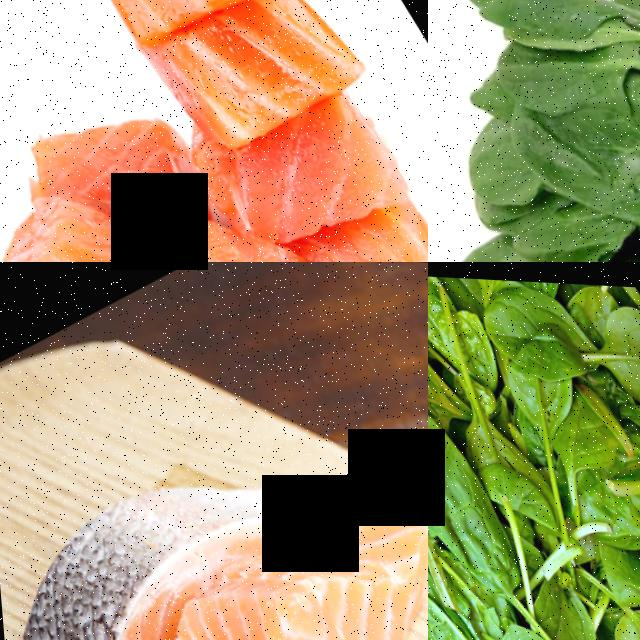salmon: (171, 47, 422, 262), (219, 453, 428, 640), (132, 0, 375, 158), (6, 67, 206, 256), (32, 169, 372, 262), (70, 553, 426, 640), (0, 534, 211, 640), (60, 0, 310, 62)
spinach: (428, 373, 537, 609), (485, 4, 640, 128), (462, 275, 605, 403), (555, 61, 640, 232), (445, 0, 618, 69), (435, 110, 540, 222), (508, 174, 629, 262), (580, 286, 640, 433), (599, 458, 640, 640), (442, 238, 545, 262)
